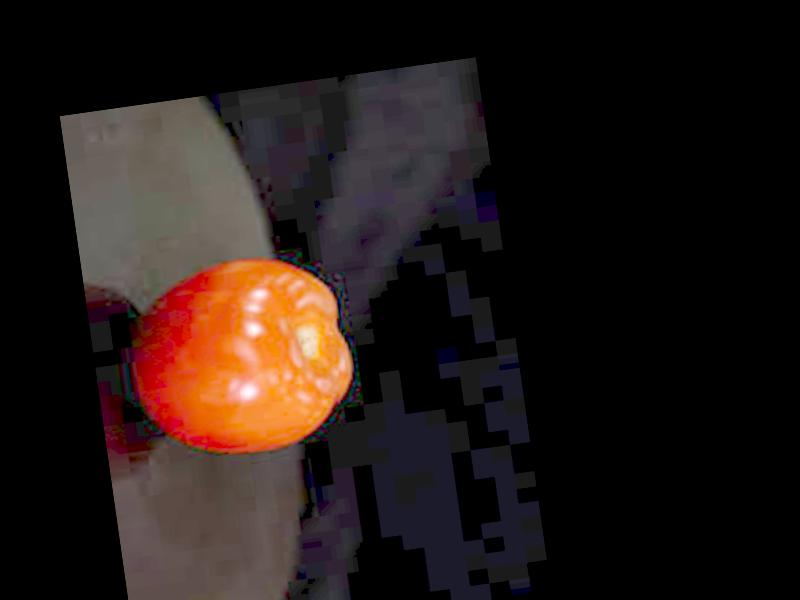Tomato: (125, 247, 362, 469)
